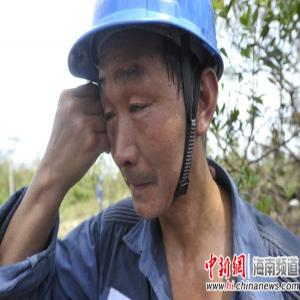blue: (77, 3, 225, 224)
